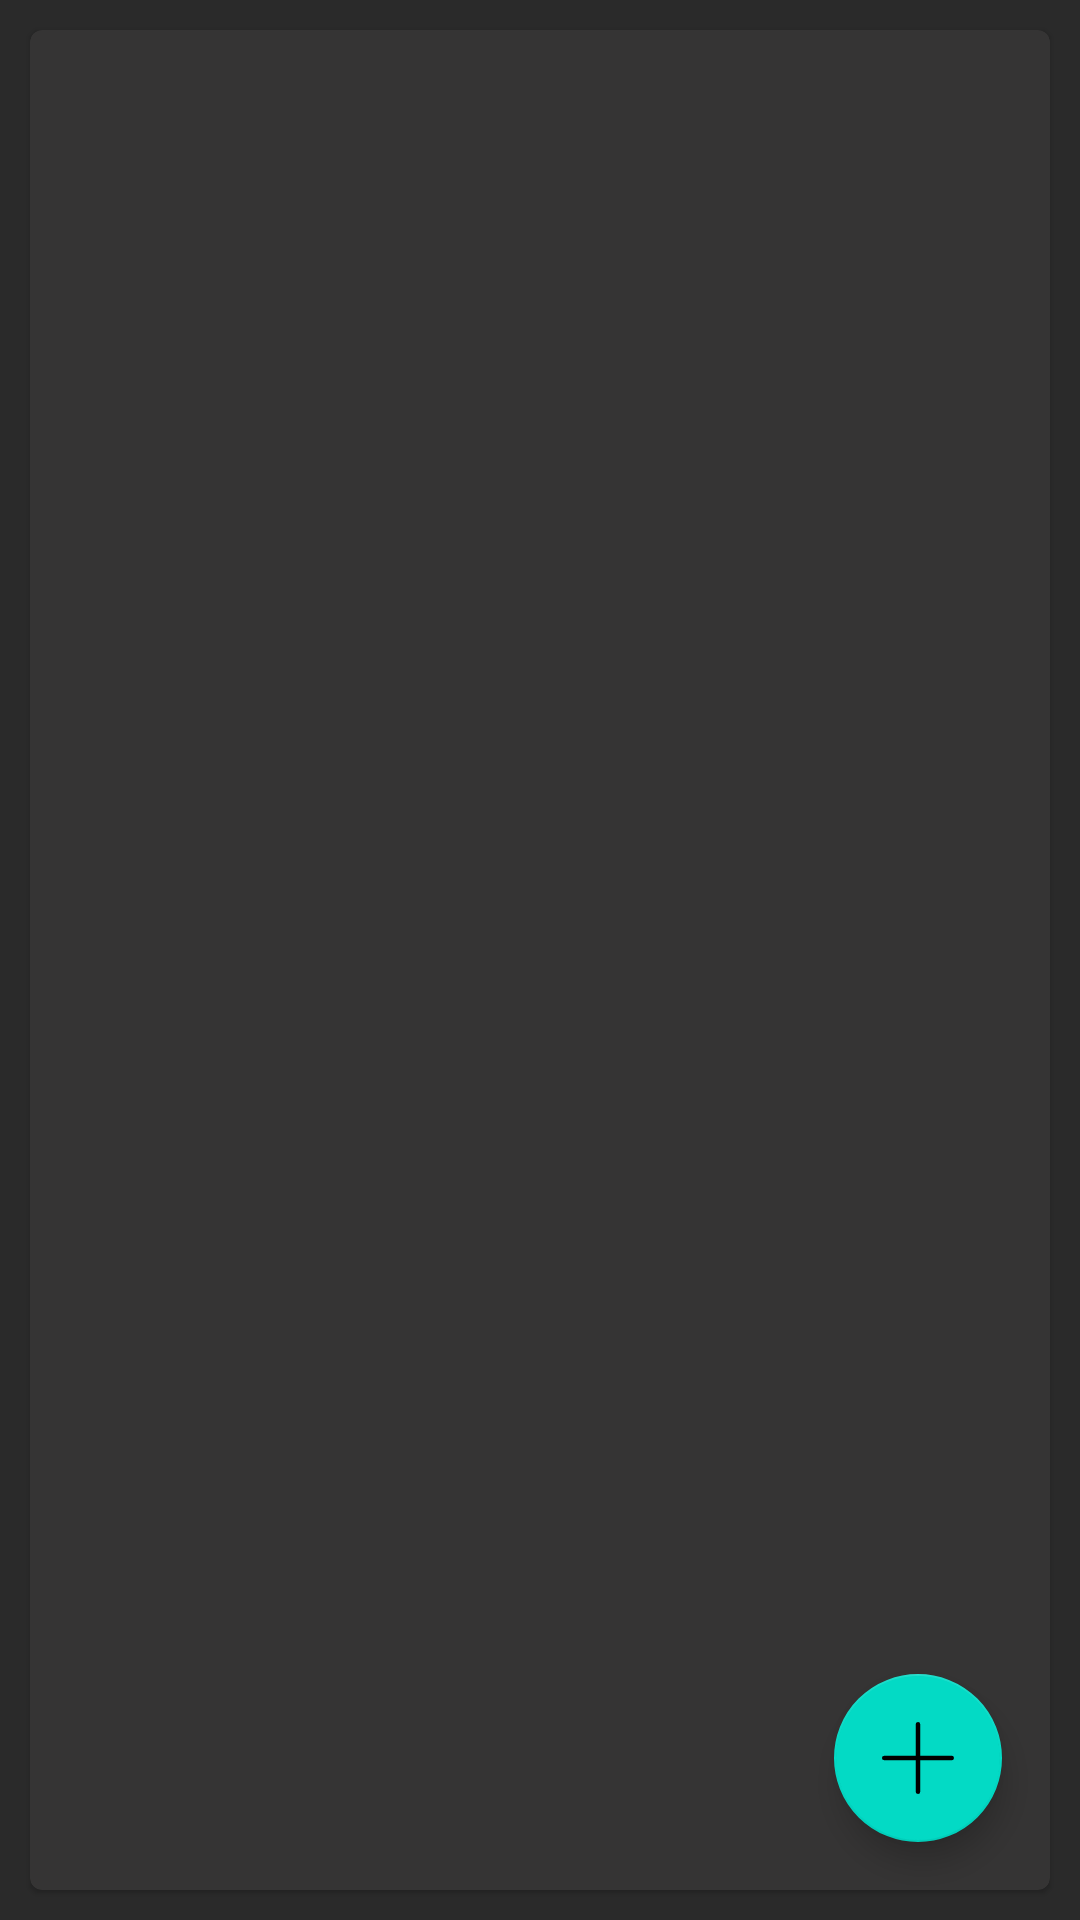

Screen size 1080*1920. Icon name, then its box in pixels as [x1, y1, x2, y2]:
add: [834, 1674, 1002, 1842]
